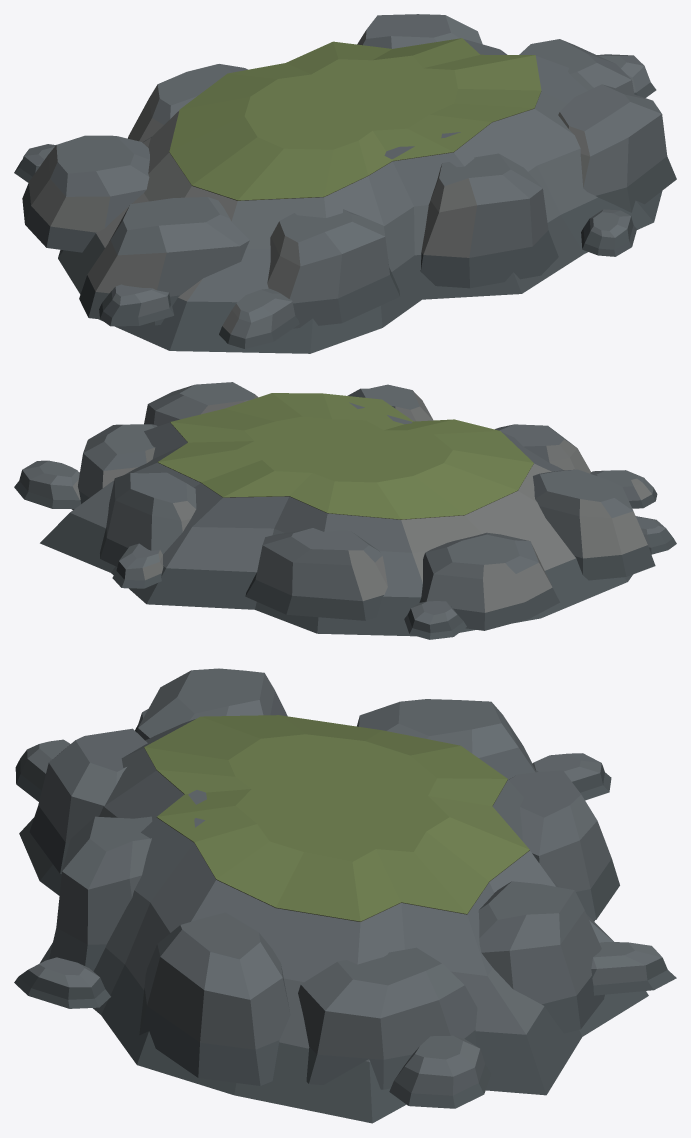
File: island_a.glb
The picture shows the model from 3 angles, top to bottom: view 1: azimuth 30°, elevation 25°; view 2: azimuth 150°, elevation 25°; view 3: azimuth 270°, elevation 25°; orthographic projection. The views are drawn at different scales.
Parts seen in each view (by area): view 1: island_a_Coast blue grey bedrock, island_a_Coast short olive grass; view 2: island_a_Coast blue grey bedrock, island_a_Coast short olive grass; view 3: island_a_Coast blue grey bedrock, island_a_Coast short olive grass.
Part boxes in pixels (x1,y1,x2,y2): island_a_Coast blue grey bedrock: [14, 14, 676, 353]; island_a_Coast short olive grass: [169, 38, 541, 200]; island_a_Coast blue grey bedrock: [14, 382, 676, 639]; island_a_Coast short olive grass: [157, 393, 533, 519]; island_a_Coast blue grey bedrock: [14, 668, 676, 1123]; island_a_Coast short olive grass: [144, 715, 529, 921].
Size of the model in its own units: 199 by 33.78 by 144.
